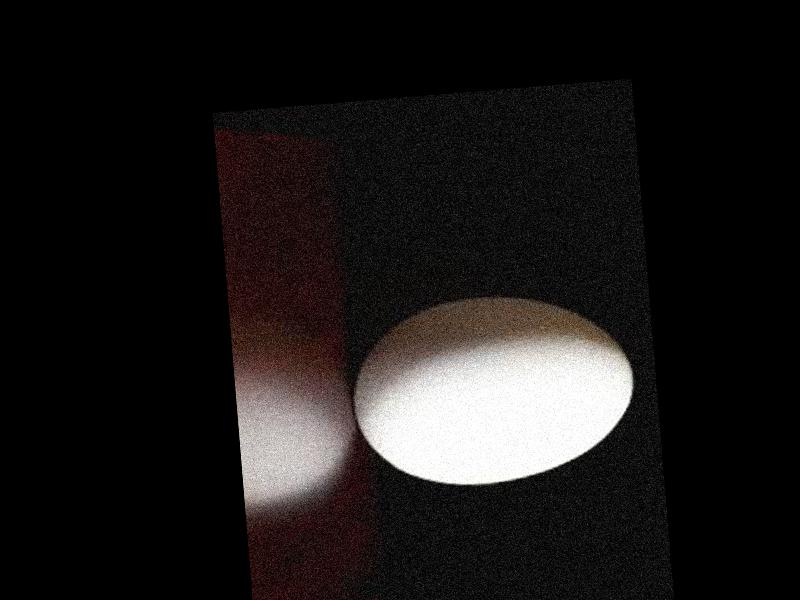Eggs: (346, 288, 640, 493)
